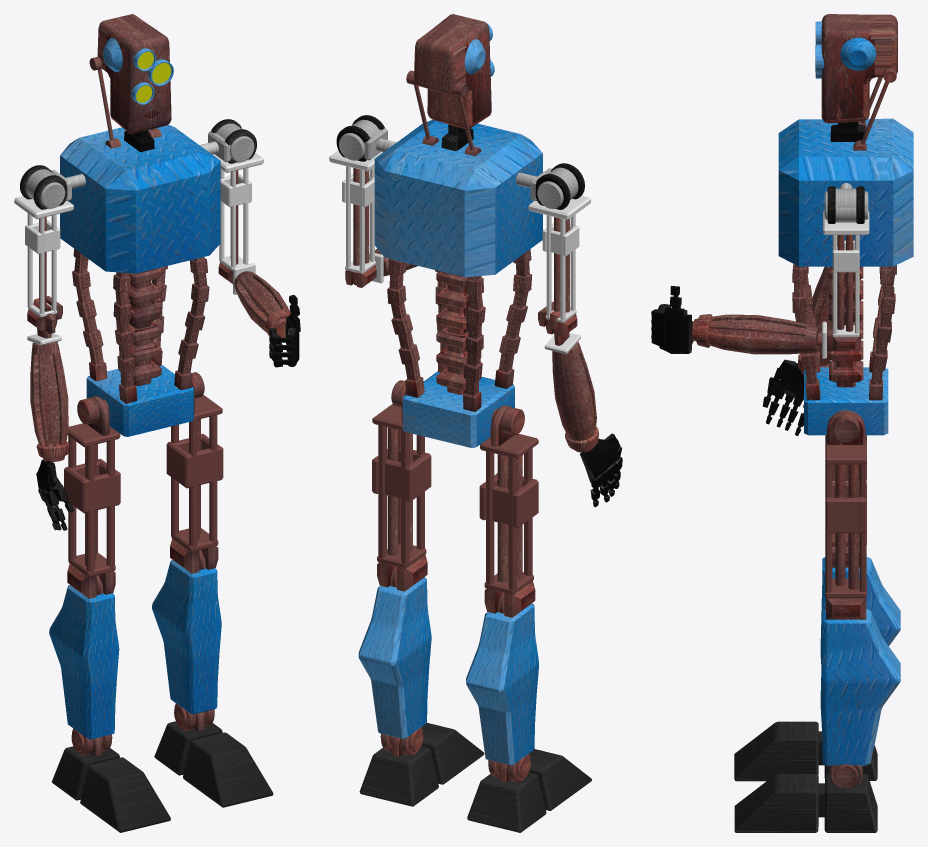
File: robot.fbx
3 renders of one model, left to right at view 1: azimuth 30°, elevation 25°; view 2: azimuth 150°, elevation 25°; view 3: azimuth 270°, elevation 25°, orthographic. The views are drawn at different scales.
Visible parts, largest first — view 1: pCube3, pCube99, pCube87, pCube96, pCube83, pCube19, pCube97, pCube90, pCube1, pCylinder50, pCylinder48, pCube7 (+9 smaller); view 2: pCube3, pCube99, pCube87, pCube96, pCube83, pCube19, pCube1, pCylinder50, pCube100, pCube89, pCube10, pCube9 (+17 smaller); view 3: pCube3, pCube87, pCube19, pCube83, pCylinder48, pCube90, pCube97, pCube1, pCube89, pCube99, pCube10, pCube7 (+17 smaller).
Part boxes in pixels (x1=…): pCube3: x1=60, y1=124, x2=220, y2=273; pCube99: x1=49, y1=585, x2=119, y2=739; pCube87: x1=152, y1=560, x2=221, y2=714; pCube96: x1=64, y1=423, x2=120, y2=598; pCube83: x1=166, y1=395, x2=223, y2=573; pCube19: x1=97, y1=14, x2=171, y2=133; pCube97: x1=80, y1=757, x2=170, y2=832; pCube90: x1=183, y1=732, x2=273, y2=807; pCube1: x1=86, y1=365, x2=193, y2=436; pCylinder50: x1=30, y1=341, x2=69, y2=461; pCylinder48: x1=234, y1=271, x2=291, y2=337; pCube7: x1=174, y1=257, x2=209, y2=390; pCube3: x1=374, y1=120, x2=542, y2=277; pCube99: x1=466, y1=603, x2=538, y2=765; pCube87: x1=358, y1=577, x2=431, y2=738; pCube96: x1=479, y1=434, x2=538, y2=617; pCube83: x1=372, y1=404, x2=431, y2=591; pCube19: x1=414, y1=14, x2=491, y2=128; pCube1: x1=402, y1=371, x2=514, y2=447; pCylinder50: x1=552, y1=341, x2=598, y2=452; pCube100: x1=467, y1=772, x2=546, y2=832; pCube89: x1=359, y1=746, x2=438, y2=806; pCube10: x1=387, y1=259, x2=424, y2=397; pCube9: x1=463, y1=276, x2=485, y2=412; pCube3: x1=778, y1=118, x2=913, y2=266; pCube87: x1=820, y1=608, x2=900, y2=765; pCube19: x1=821, y1=14, x2=897, y2=123; pCube83: x1=825, y1=441, x2=866, y2=619; pCylinder48: x1=692, y1=314, x2=819, y2=354; pCube90: x1=734, y1=774, x2=818, y2=832; pCube97: x1=734, y1=721, x2=818, y2=781; pCube1: x1=804, y1=367, x2=888, y2=435; pCube89: x1=824, y1=774, x2=877, y2=832; pCube99: x1=820, y1=557, x2=900, y2=663; pCube10: x1=869, y1=266, x2=895, y2=400; pCube7: x1=792, y1=264, x2=820, y2=400.
Bounding box in the file's own units: 3.36 × 10.08 × 3.1.
14 materials, 9 textured.
